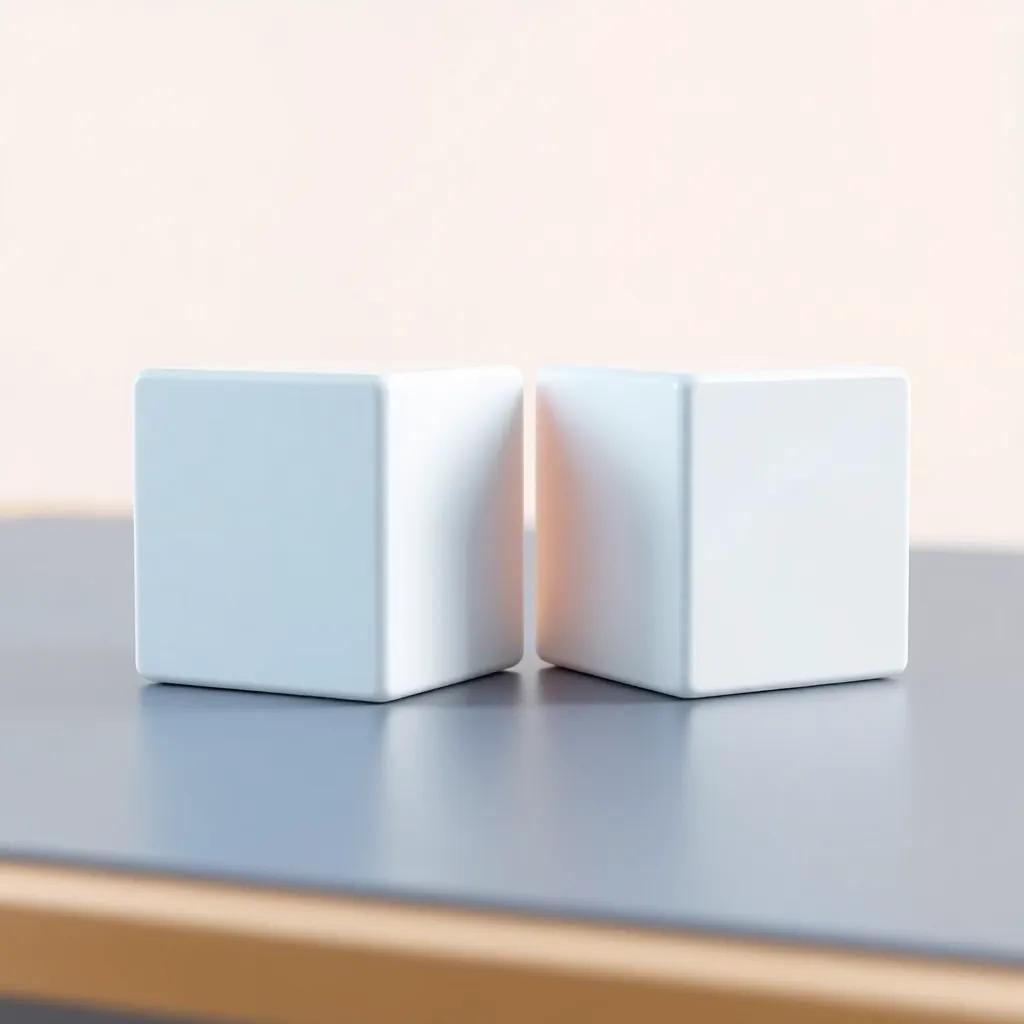cube: (132, 362, 525, 703), (534, 362, 910, 700)
